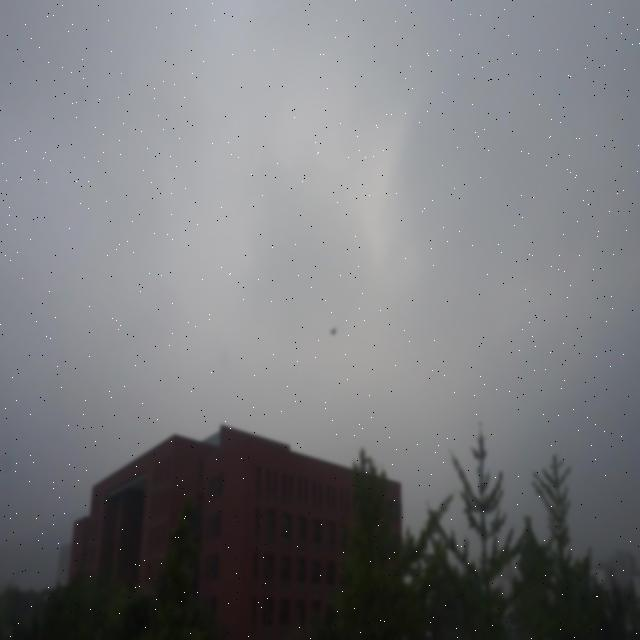UAV: (329, 326, 338, 336)
